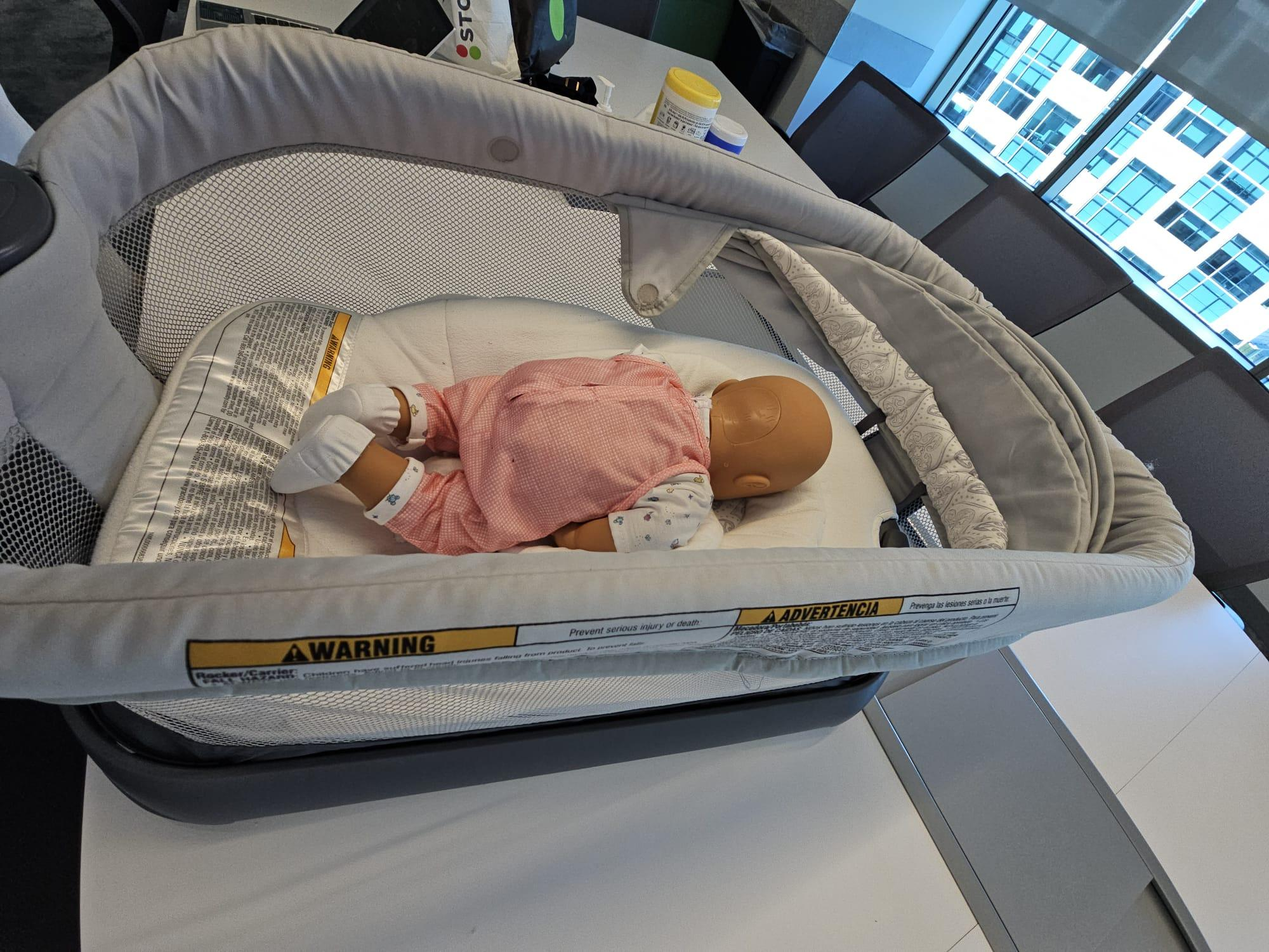baby: (269, 338, 850, 551)
